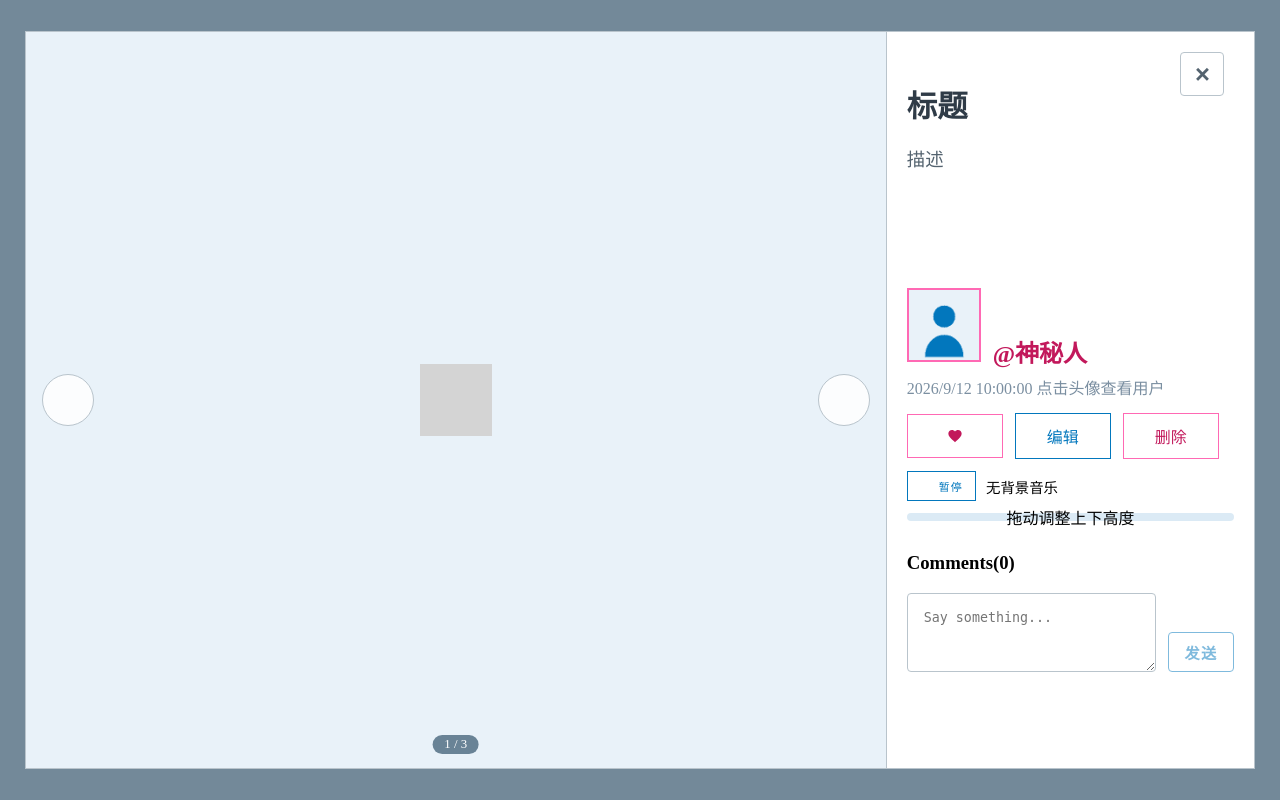
Test: GalleryDetailDialog 的媒体翻阅 › 点右箭头换下一条，媒体与页码一起走
Click the button with class "media-arrow-right". click: x=844, y=400
box: [818,374,870,426]
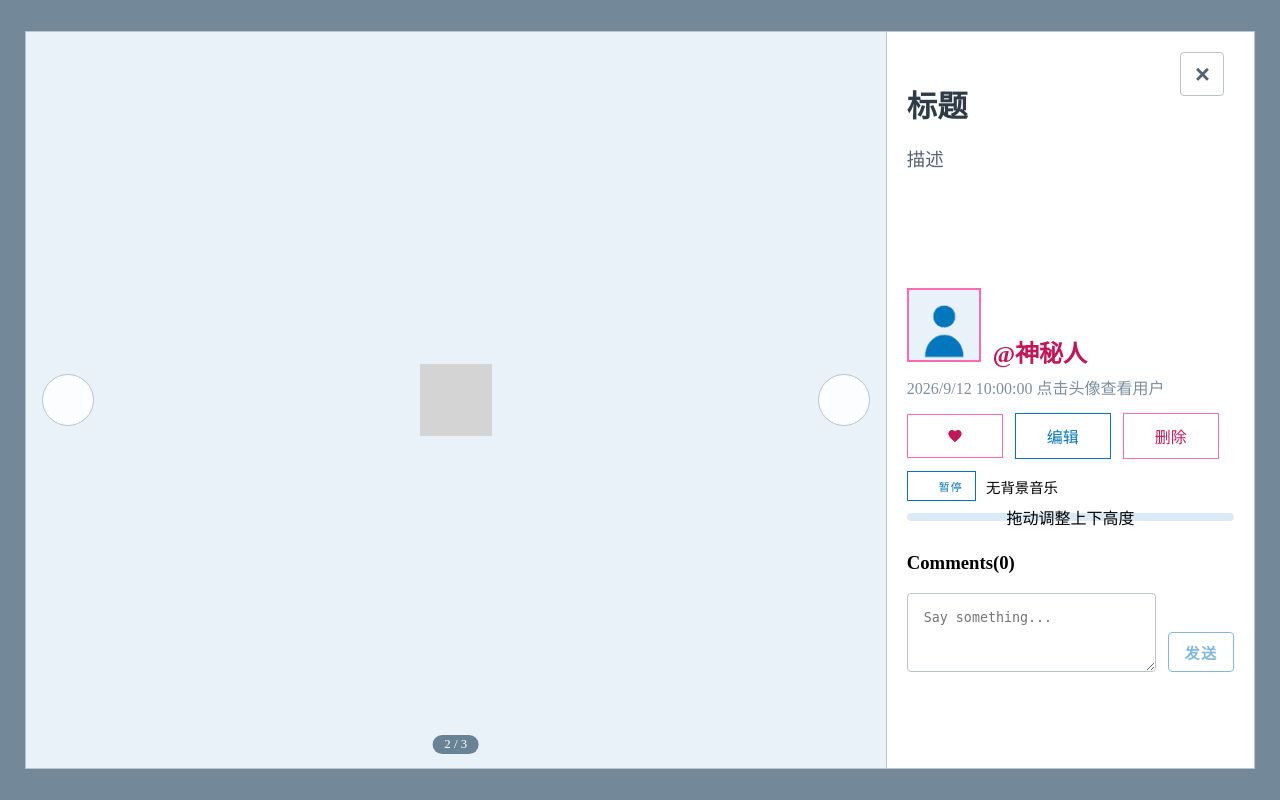
Expected: the text with class "media-indicator" reads "2 / 3", [444,737,467,751]
Click the button with class "media-arrow-left". click: x=68, y=400
box: [42,374,94,426]
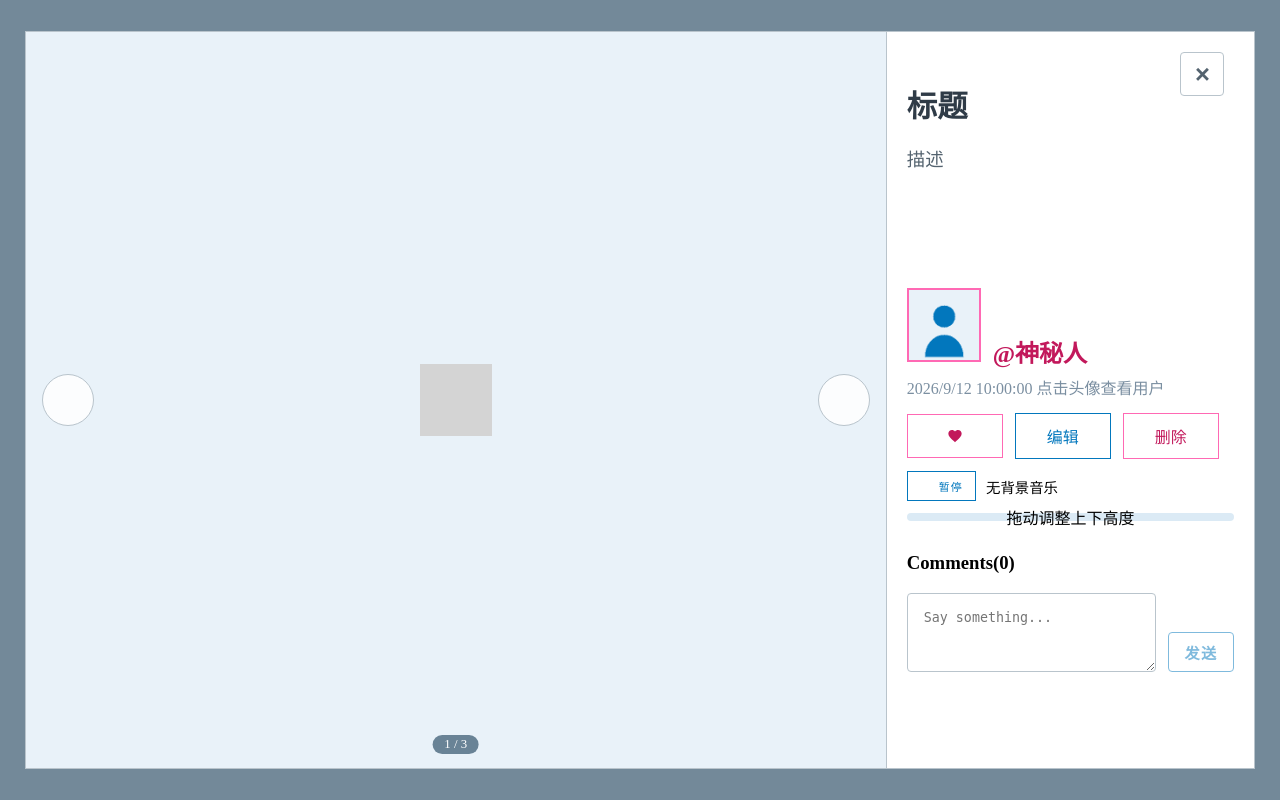
Expected: the text with class "media-indicator" reads "1 / 3", [444,737,467,751]
